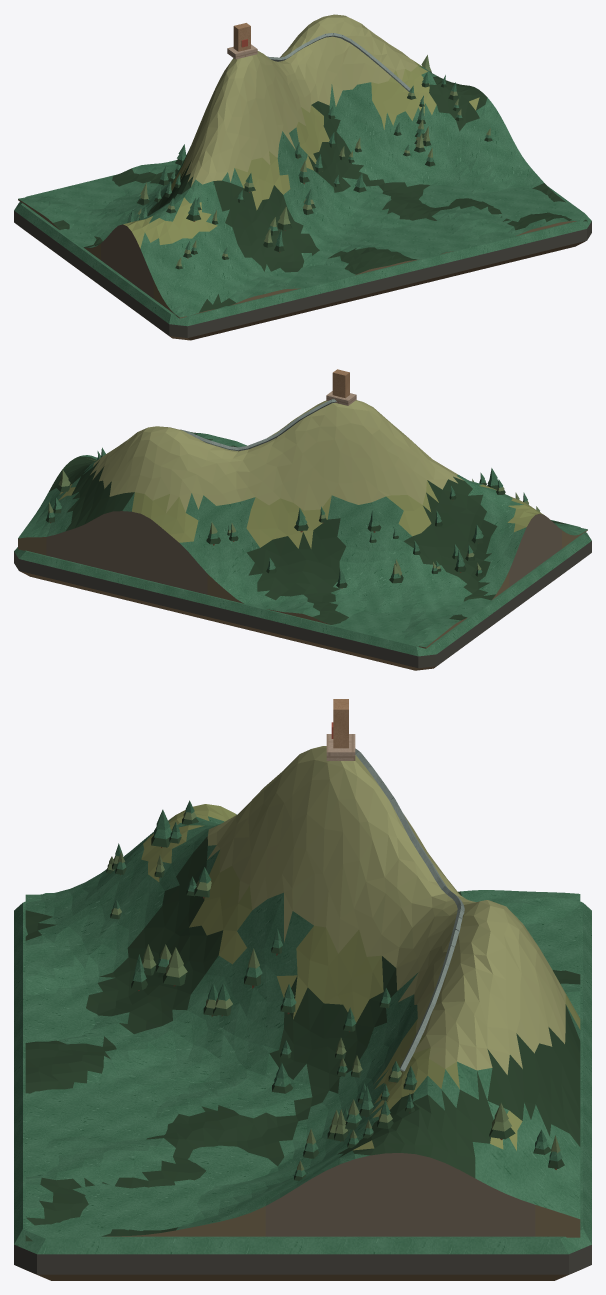
The model's file is shennongjia.glb.
3 renders of one model, top to bottom at view 1: azimuth 30°, elevation 25°; view 2: azimuth 150°, elevation 25°; view 3: azimuth 270°, elevation 25°, orthographic. The views are drawn at different scales.
Parts seen in each view (by area): view 1: 神农架·神农顶; view 2: 神农架·神农顶; view 3: 神农架·神农顶.
Part boxes in pixels (x1,y1,x2,y2): 神农架·神农顶: (14,14,591,340); 神农架·神农顶: (14,369,591,670); 神农架·神农顶: (14,699,591,1280).
Bounding box in the file's own units: 6.15 × 2.96 × 4.25.
Materials: 14 (5 with a texture image).
